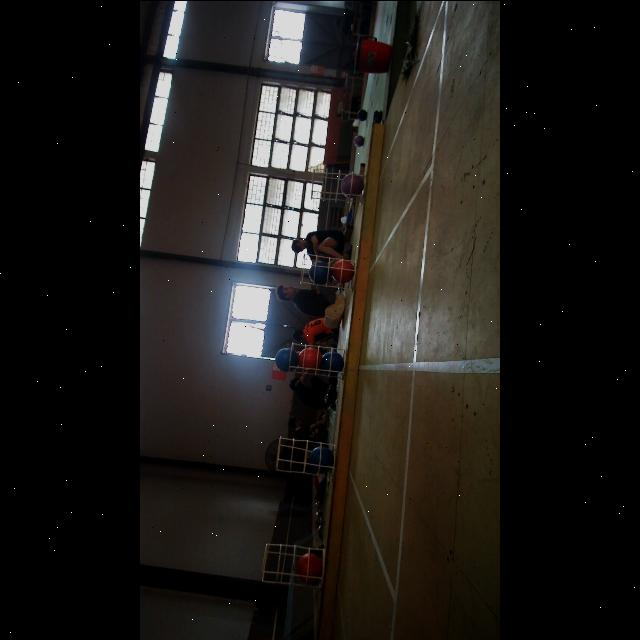B: (306, 257, 332, 285), (308, 446, 334, 474), (321, 350, 344, 376), (274, 347, 298, 371)
R: (297, 552, 323, 582), (331, 258, 355, 282), (298, 347, 322, 371)
